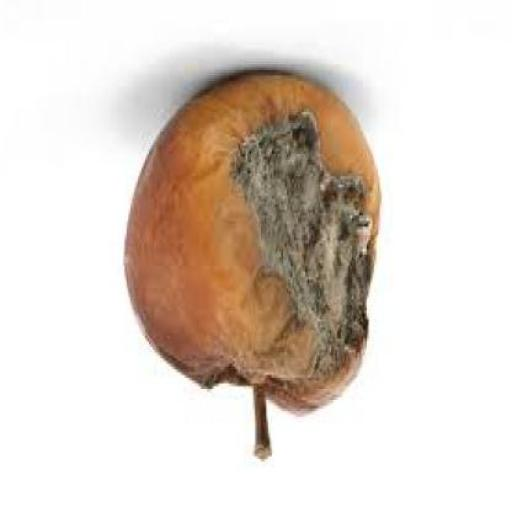biodegradable: (126, 73, 388, 464)
